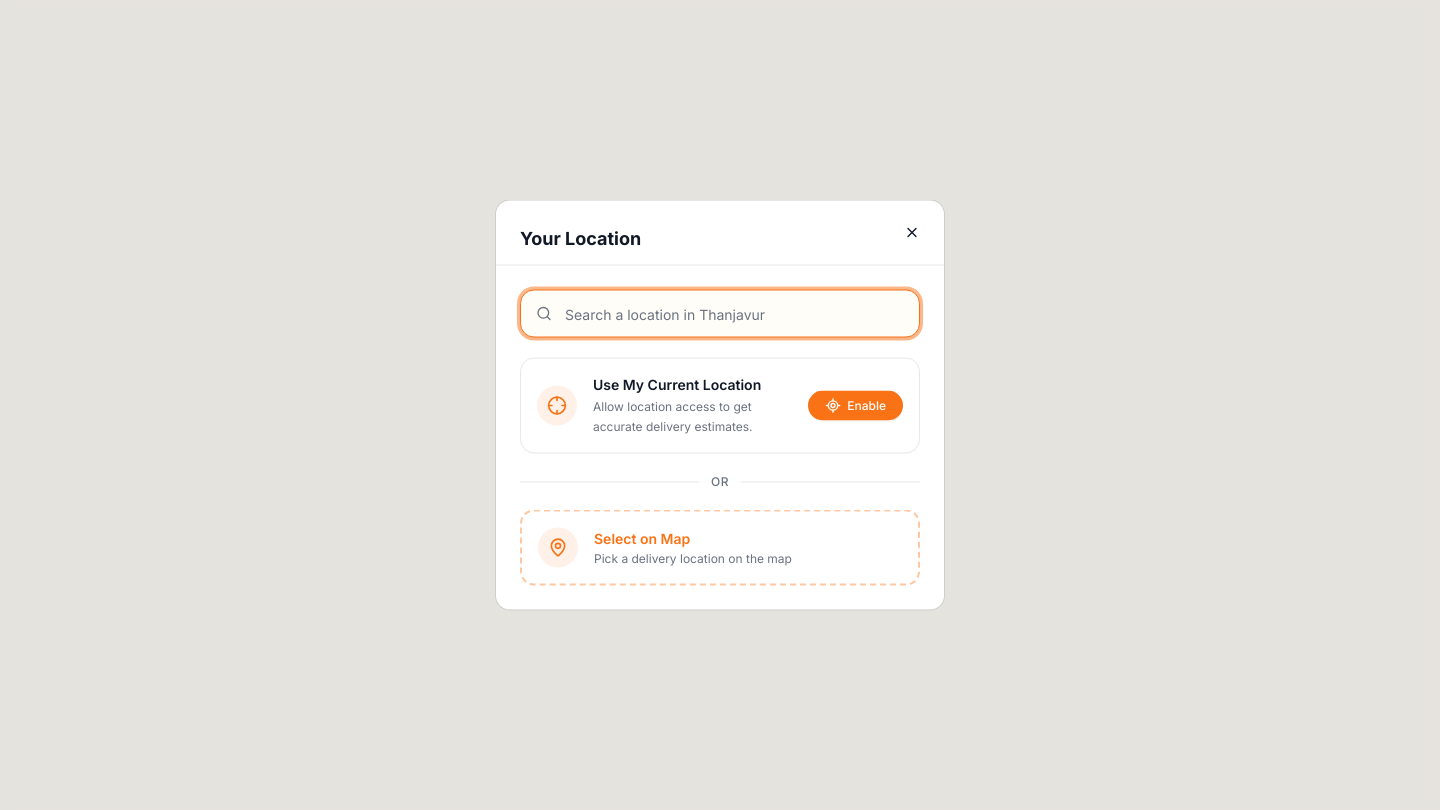
Test: LocationDialog › navigates back to main step when back button is clicked
Click the text "Select on Map".
click(642, 538)  # box 594,530 -> 690,546
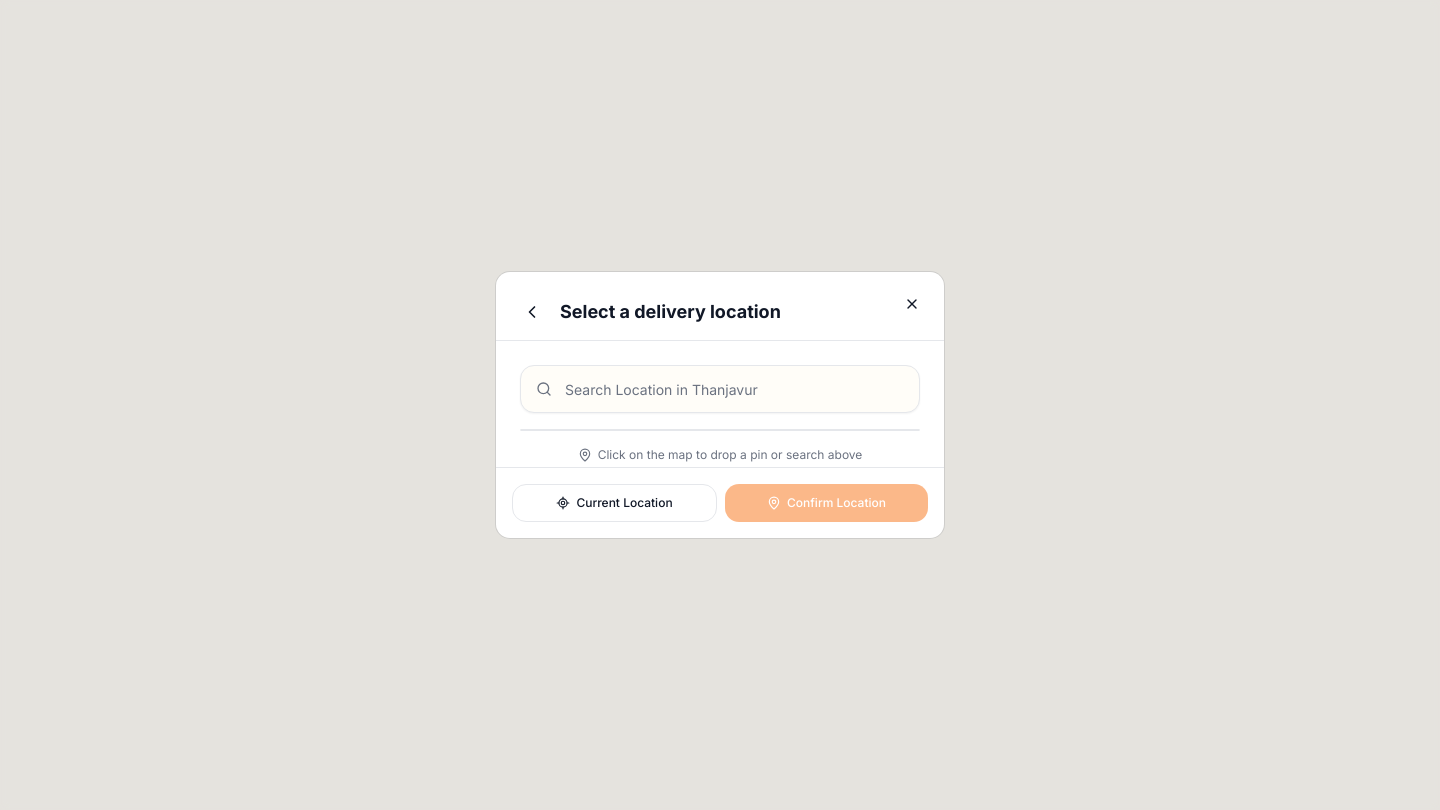
Expected: the heading "Select a delivery location" is shown, 560,298 -> 781,326
Click the button without text next to "Select a delivery location".
click(532, 312)  # box 516,296 -> 548,328
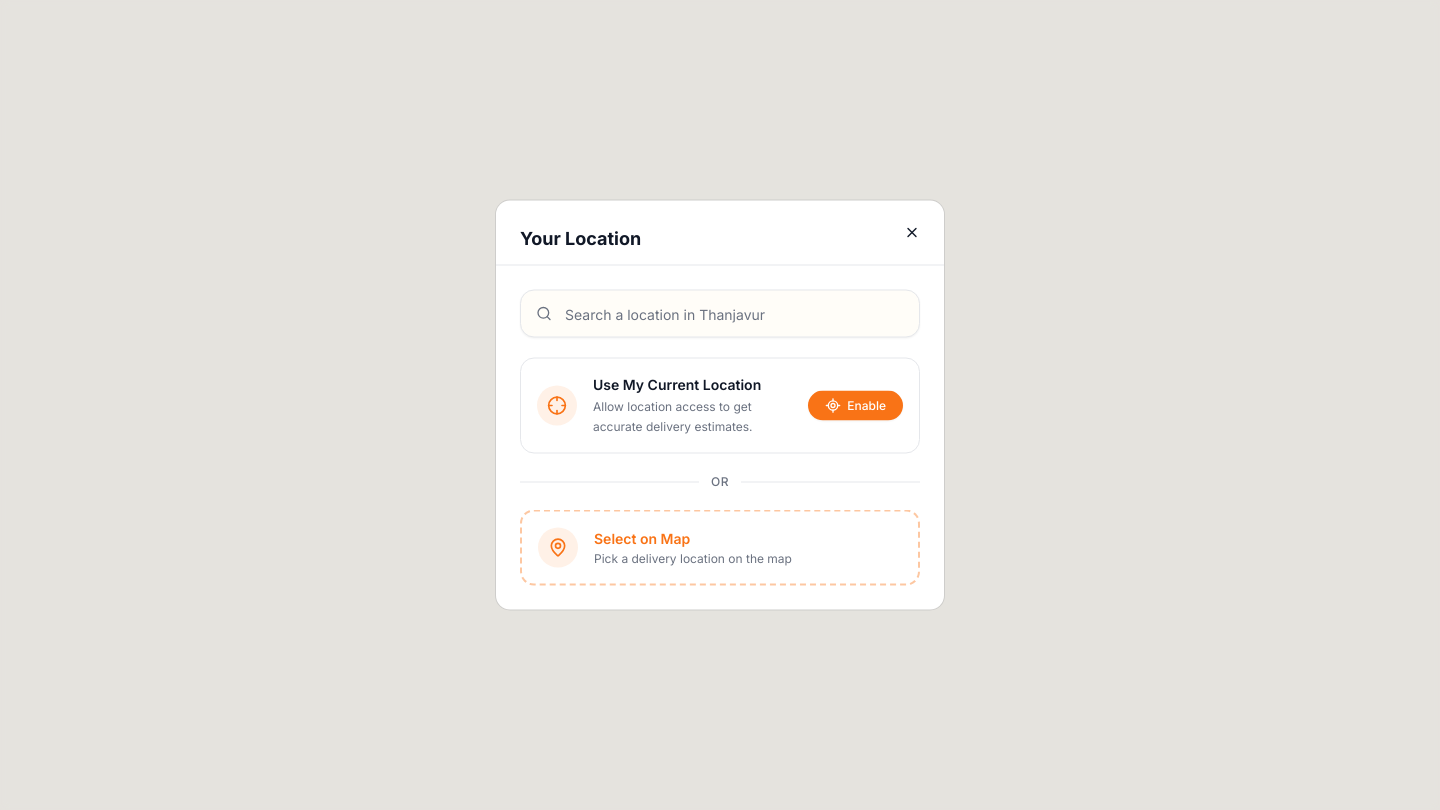
Expected: the heading "Your Location" is shown, 520,224 -> 641,252
